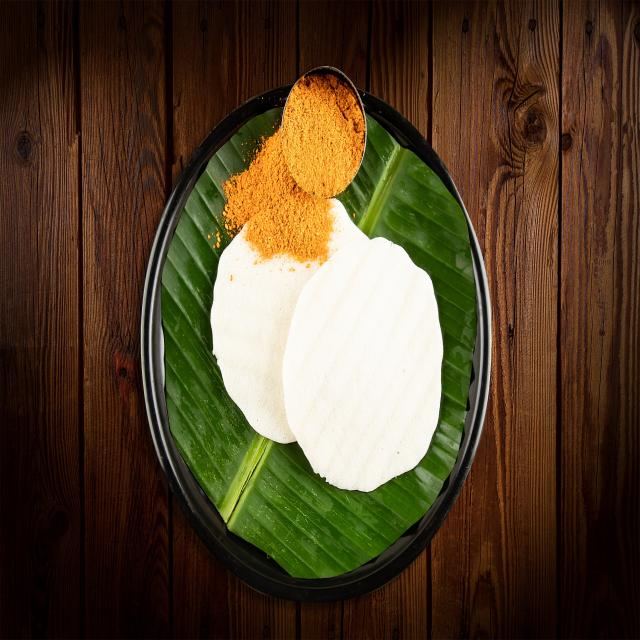idly: (295, 235, 448, 500), (214, 215, 332, 439)
